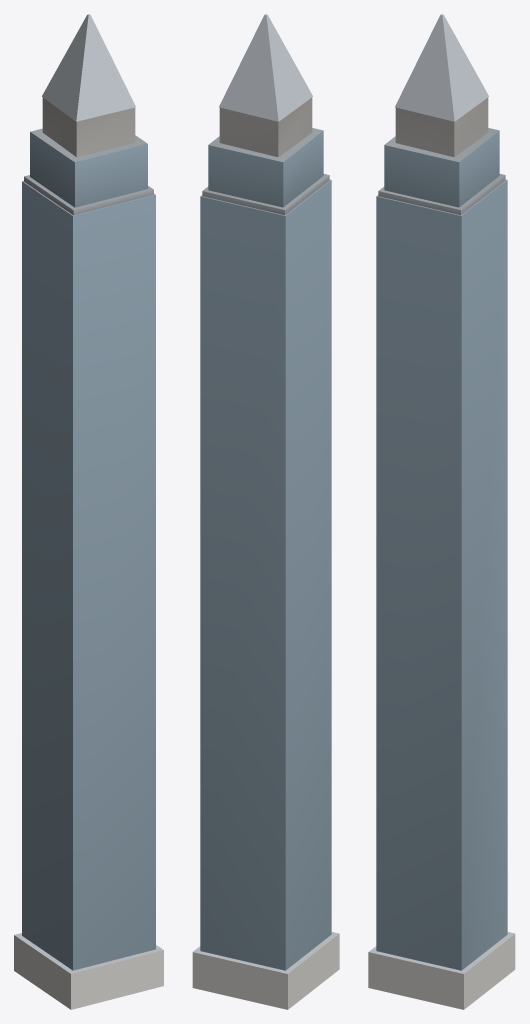
The model's file is tower_04.glb.
3 renders of one model, left to right at view 1: azimuth 30°, elevation 25°; view 2: azimuth 150°, elevation 25°; view 3: azimuth 330°, elevation 25°, orthographic.
Visible parts, largest first — view 1: tower_04; view 2: tower_04; view 3: tower_04.
Boxes of the visible parts, x1,y1,x2,y2 form: tower_04: [14, 14, 163, 1009]; tower_04: [192, 14, 339, 1009]; tower_04: [368, 14, 515, 1009].
Bounding box in the file's own units: 39.56 × 376 × 39.35.
